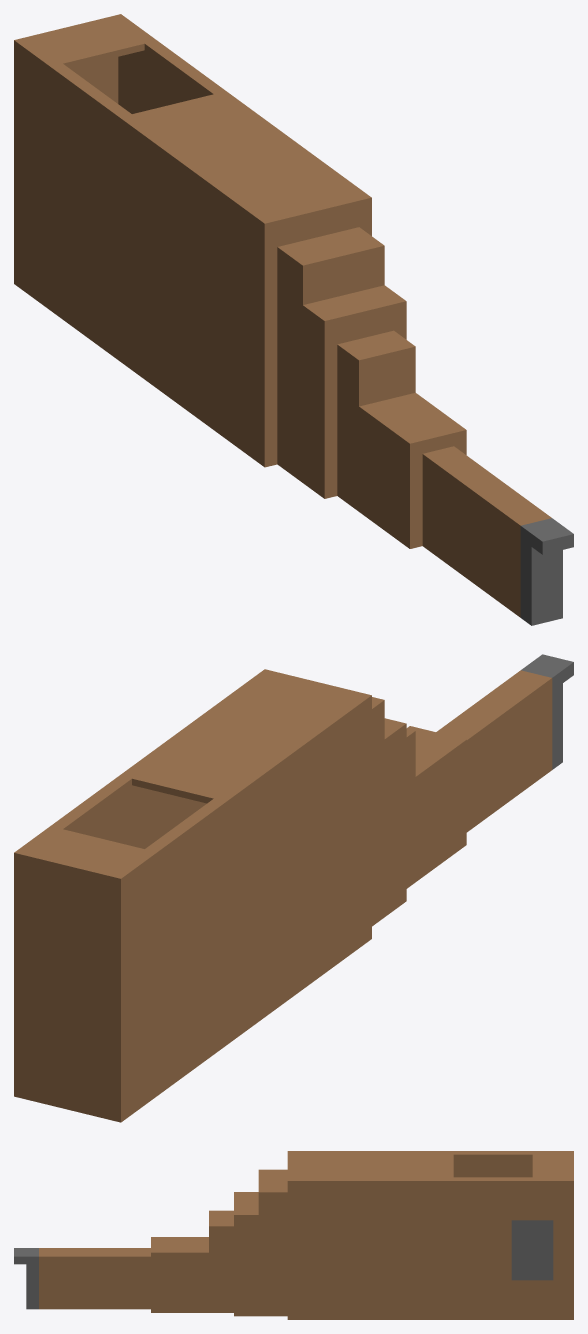
File: old_pistol_stock.fbx
The picture shows the model from 3 angles, top to bottom: view 1: azimuth 30°, elevation 25°; view 2: azimuth 150°, elevation 25°; view 3: azimuth 270°, elevation 25°; orthographic projection. The views are drawn at different scales.
Visible parts, largest first — view 1: old_pistol_stock_base, old_pistol_stock_lid; view 2: old_pistol_stock_base, old_pistol_stock_lid; view 3: old_pistol_stock_base, old_pistol_stock_lid.
Boxes of the visible parts, x1=… form: old_pistol_stock_base: x1=50, y1=40, x2=573, y2=625; old_pistol_stock_lid: x1=14, y1=14, x2=156, y2=309; old_pistol_stock_base: x1=50, y1=654, x2=573, y2=1095; old_pistol_stock_lid: x1=14, y1=826, x2=157, y2=1122; old_pistol_stock_base: x1=14, y1=1151, x2=532, y2=1319; old_pistol_stock_lid: x1=532, y1=1151, x2=573, y2=1319.
Bounding box in the file's own units: 10.2 × 22.2 × 81.
